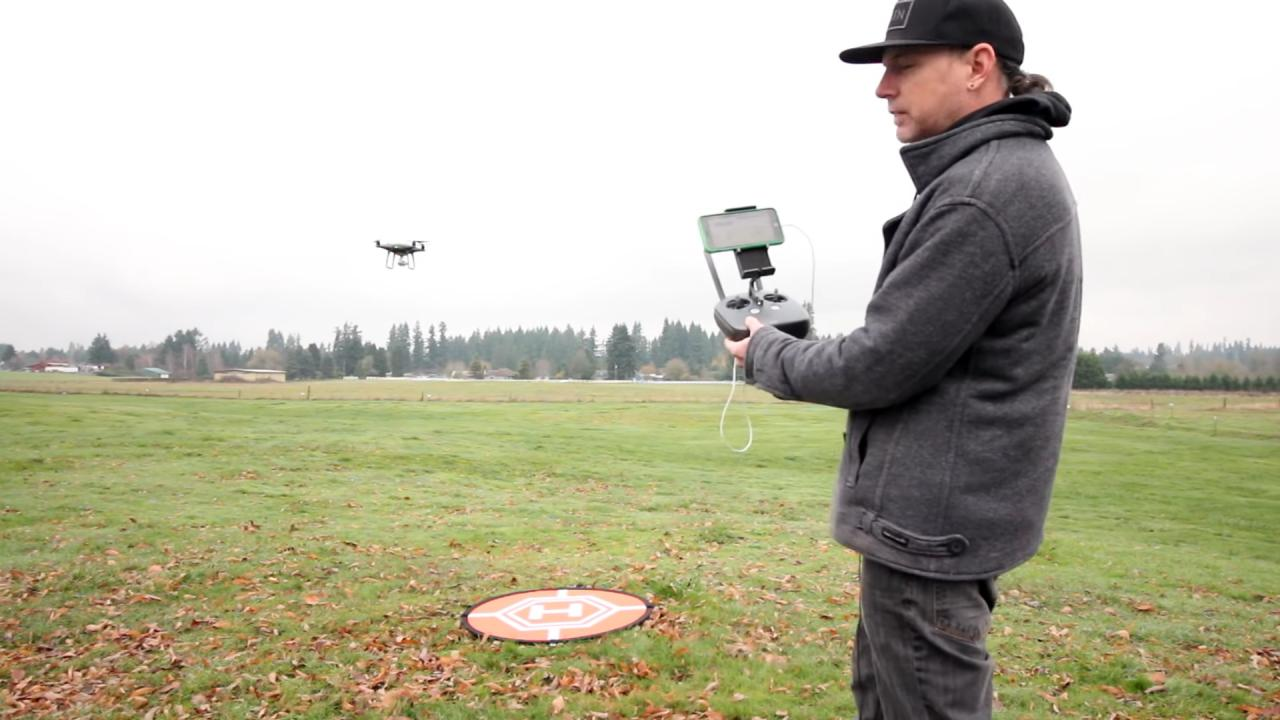Drone: (361, 229, 439, 280)
